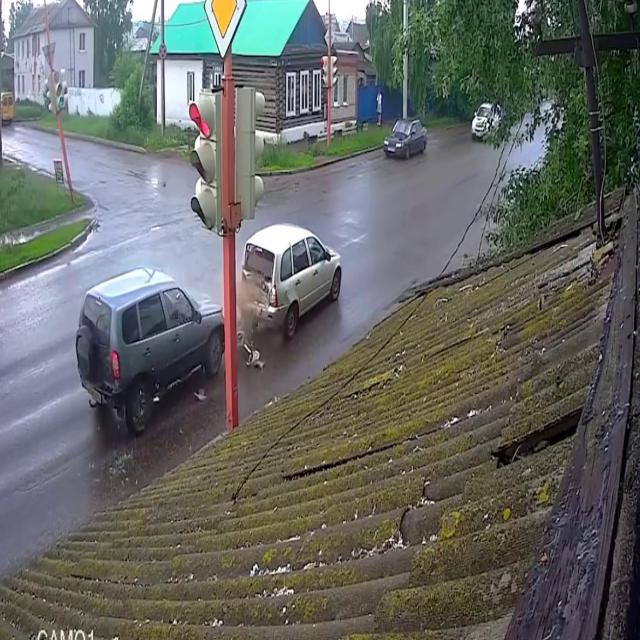accident: (239, 217, 349, 353)
